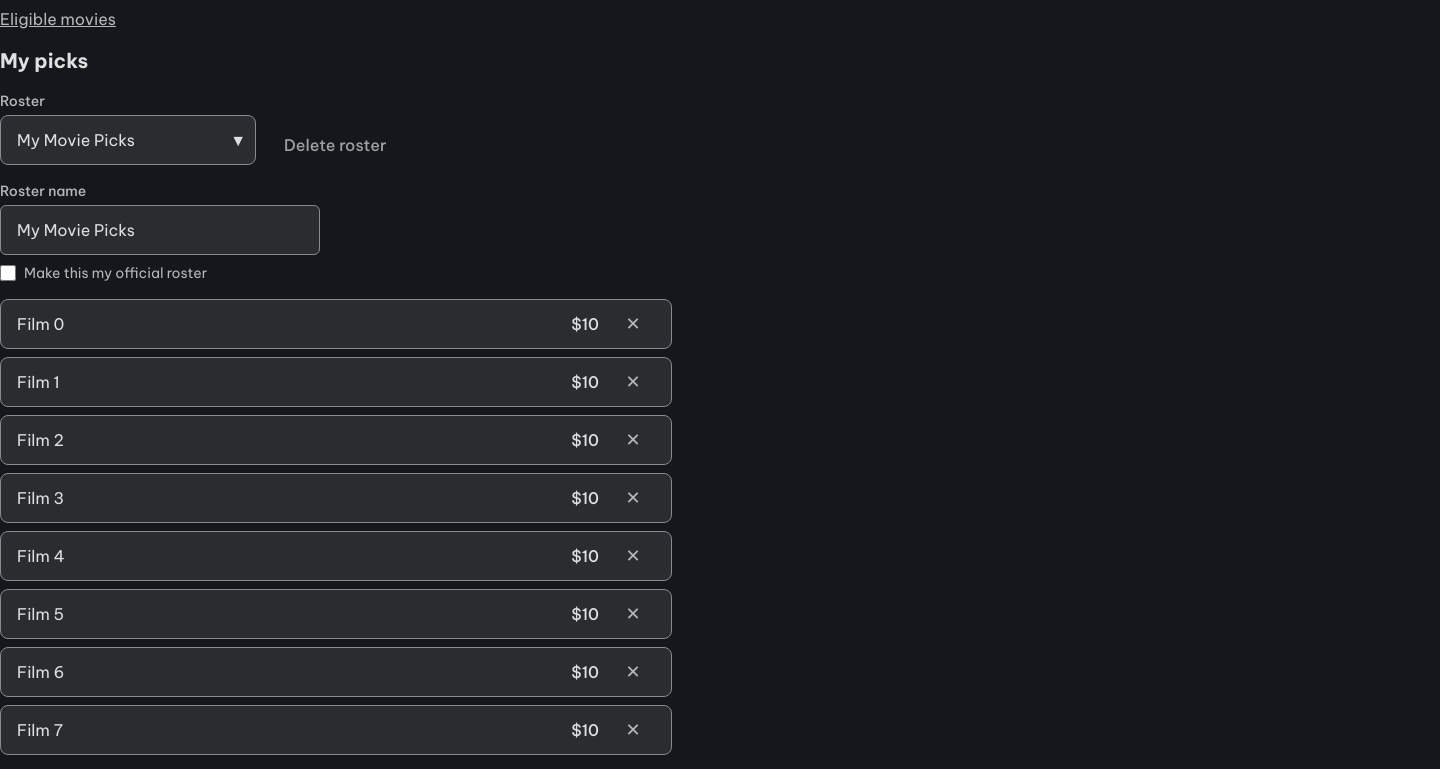
Scenario: MFL my picks › reloads a saved roster, edits it, and resubmits the change
Expected: the dropdown labelled "Roster" is shown, [0,115,256,165]
Click the button "Film 2".
click(40, 440)  # box [17,416,559,464]
(page scrolled)
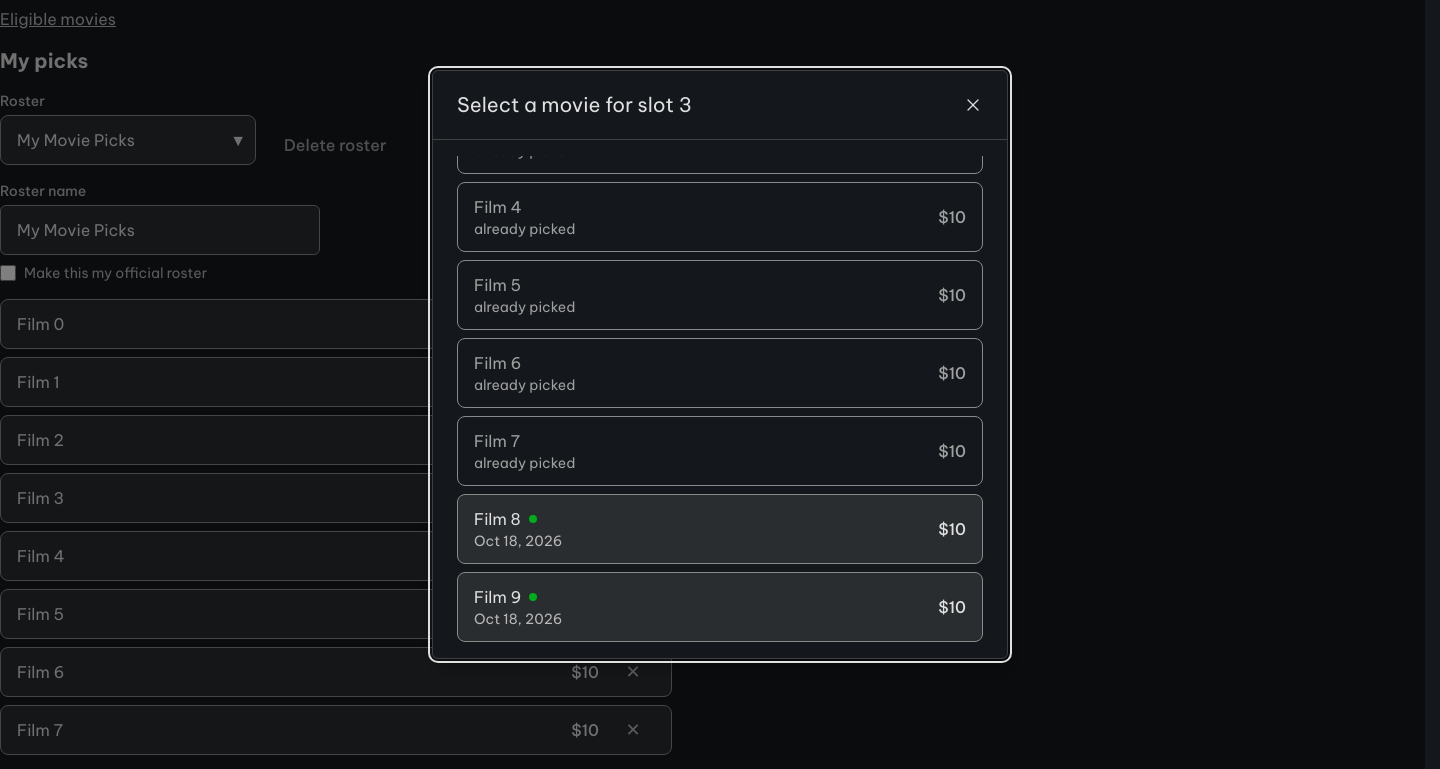
Click the button "Film 8 Oct 18, 2026 $10".
click(497, 518)  # box [457,494,983,564]
(page scrolled)
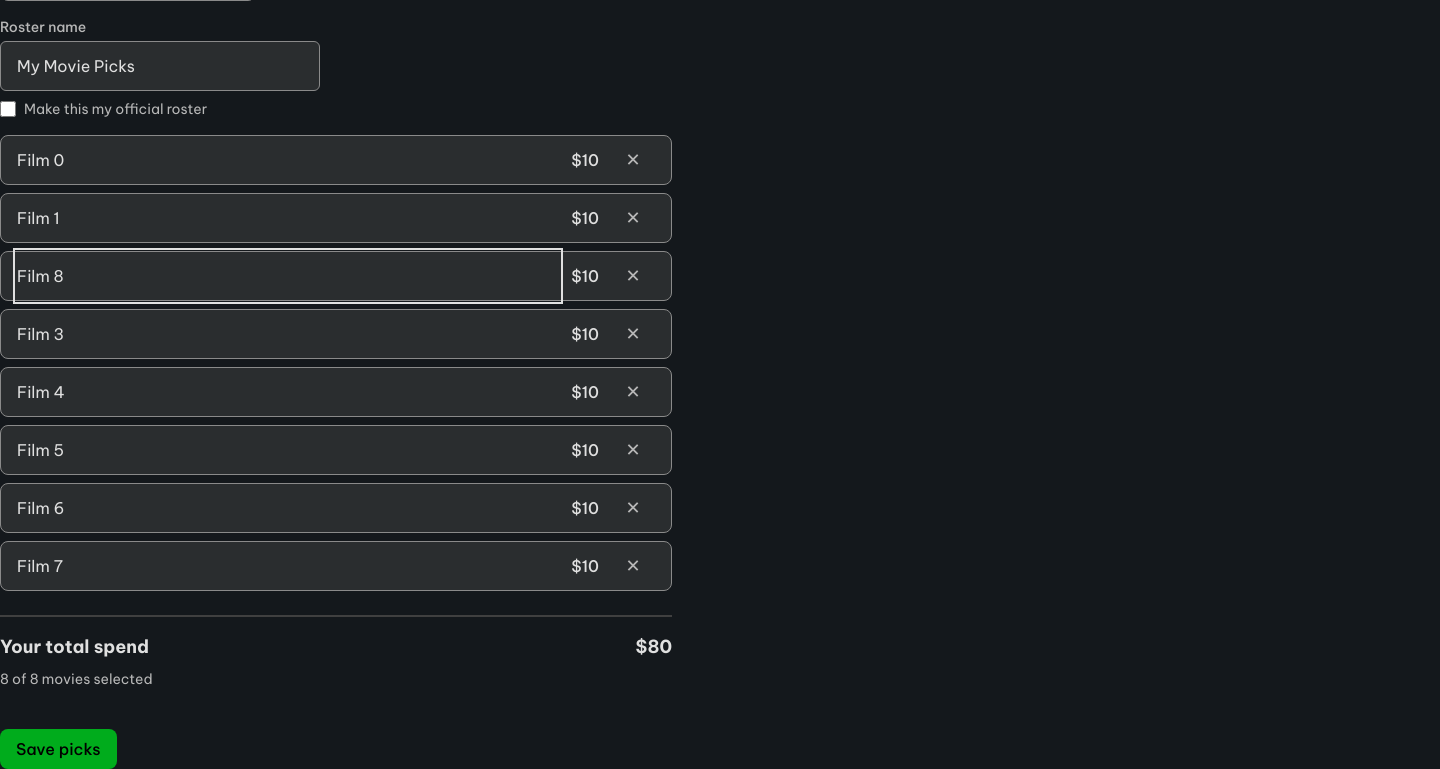
Click the button "Save picks".
click(58, 749)  # box [0,729,116,768]
(page scrolled)
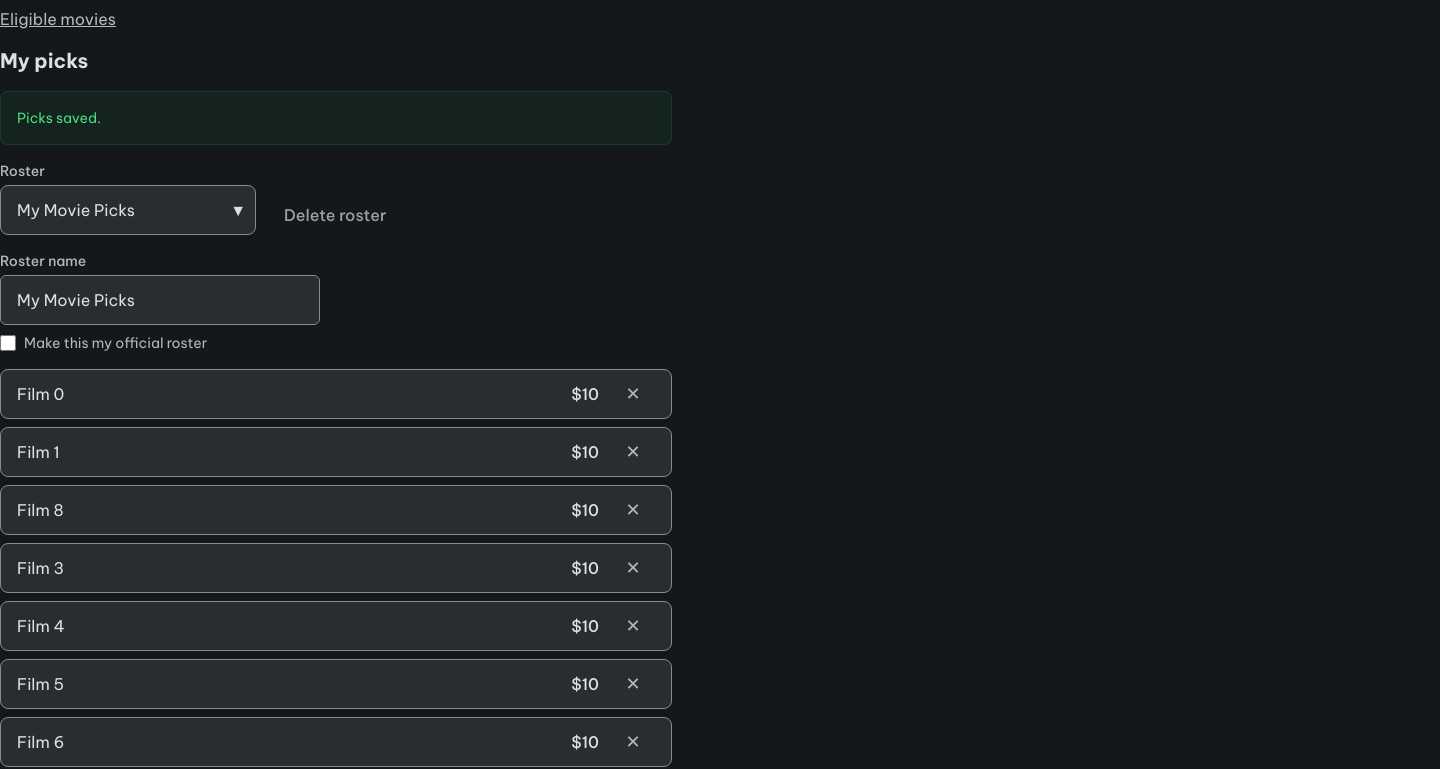
Result: the text "Picks saved." is shown at [0,91,672,145]
